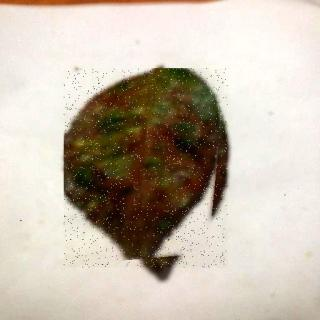Red Leaf Spot: (65, 69, 229, 269)
